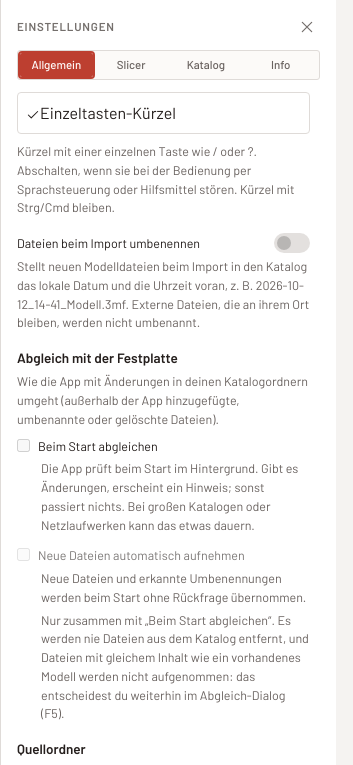
SettingsPanel content › replaces container slicer settings with a translated explanation
This screenshot has width=353, height=765.
Click the tab "Slicer".
click(131, 65)  # box [95,53,168,77]
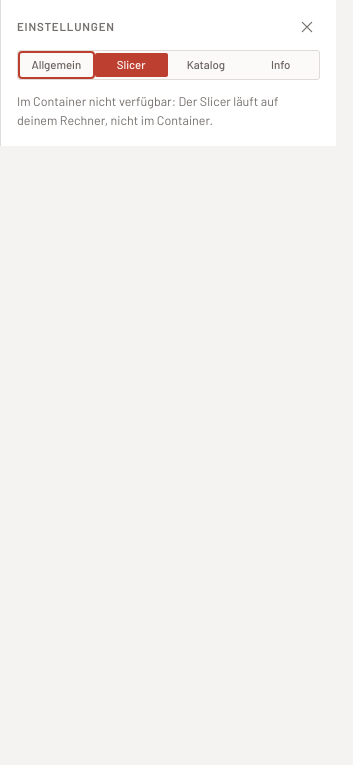
expect the text "Der Slicer läuft auf deinem Rechner" is shown: met, box [17,93,278,128]
